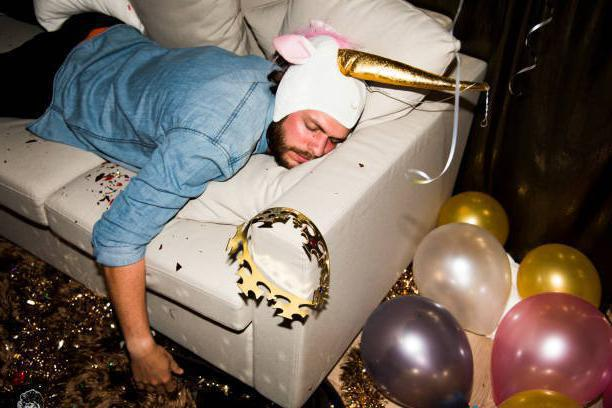Drunk: (274, 100, 342, 165)
